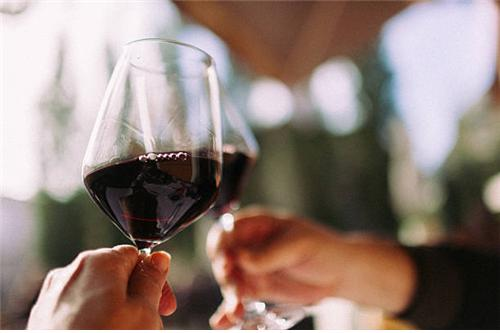alcohol: (80, 35, 223, 267), (135, 58, 263, 226)
